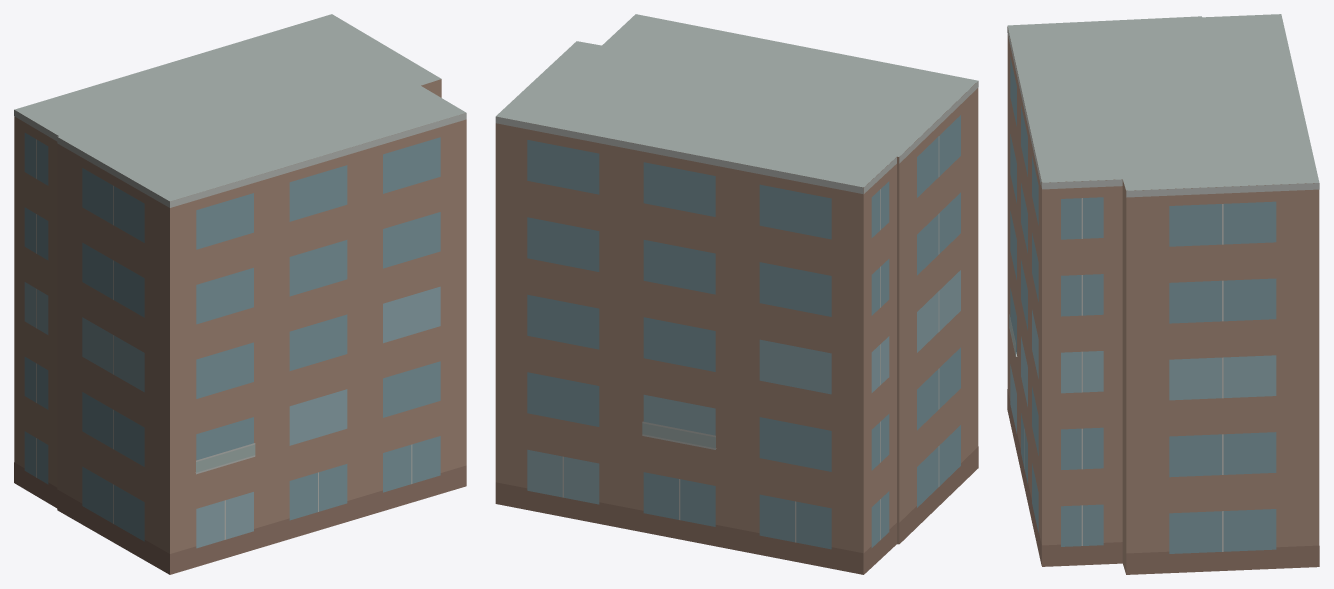
The model's file is survey-upis-32674520.glb.
3 views of the same model, side by side, from view 1: azimuth 30°, elevation 25°; view 2: azimuth 150°, elevation 25°; view 3: azimuth 270°, elevation 25° (orthographic). The views are drawn at different scales.
Visible parts, largest first — view 1: survey-upis-32674520.tmp; view 2: survey-upis-32674520.tmp; view 3: survey-upis-32674520.tmp.
Boxes of the visible parts, x1=… form: survey-upis-32674520.tmp: x1=14, y1=14, x2=466, y2=574; survey-upis-32674520.tmp: x1=495, y1=14, x2=978, y2=574; survey-upis-32674520.tmp: x1=1007, y1=14, x2=1319, y2=574.
Bounding box in the file's own units: 13.79 × 13.96 × 10.29.
